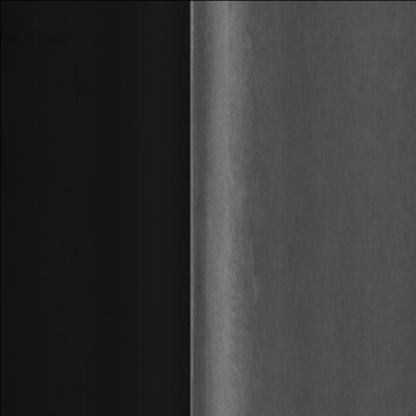silk_spot: (223, 10, 275, 376)
